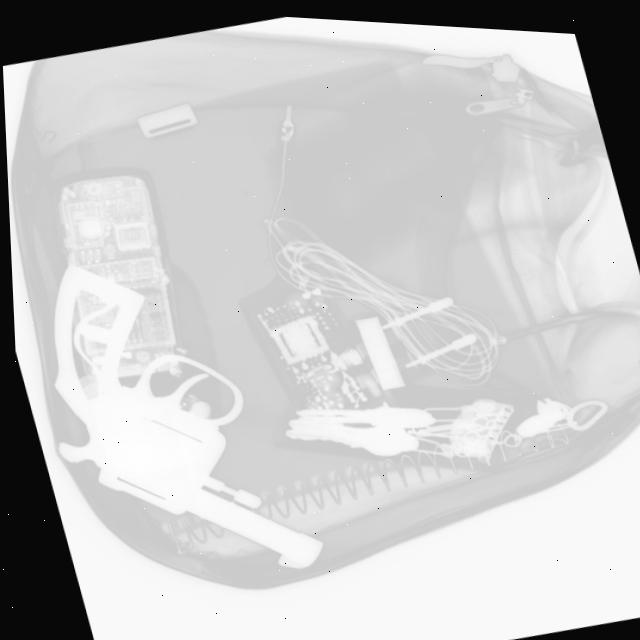pistol: (8, 215, 329, 618)
